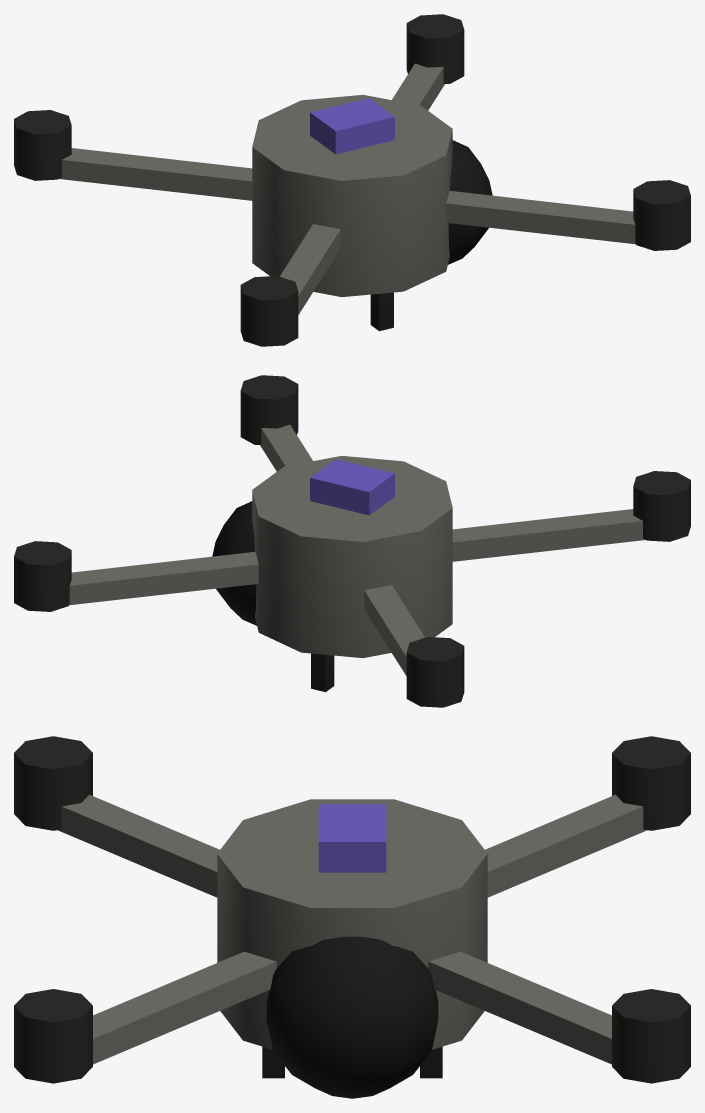
The model's file is m_drone_4cad7371.glb.
The picture shows the model from 3 angles, top to bottom: view 1: azimuth 30°, elevation 25°; view 2: azimuth 150°, elevation 25°; view 3: azimuth 270°, elevation 25°; orthographic projection. The views are drawn at different scales.
Visible parts, largest first — view 1: mesh; view 2: mesh; view 3: mesh.
Boxes of the visible parts, left/top/right/bottom form: mesh: left=14, top=14, right=690, bottom=346; mesh: left=14, top=375, right=690, bottom=707; mesh: left=14, top=736, right=690, bottom=1098.
Size of the model in its own units: 12.01 by 4.9 by 12.01.
